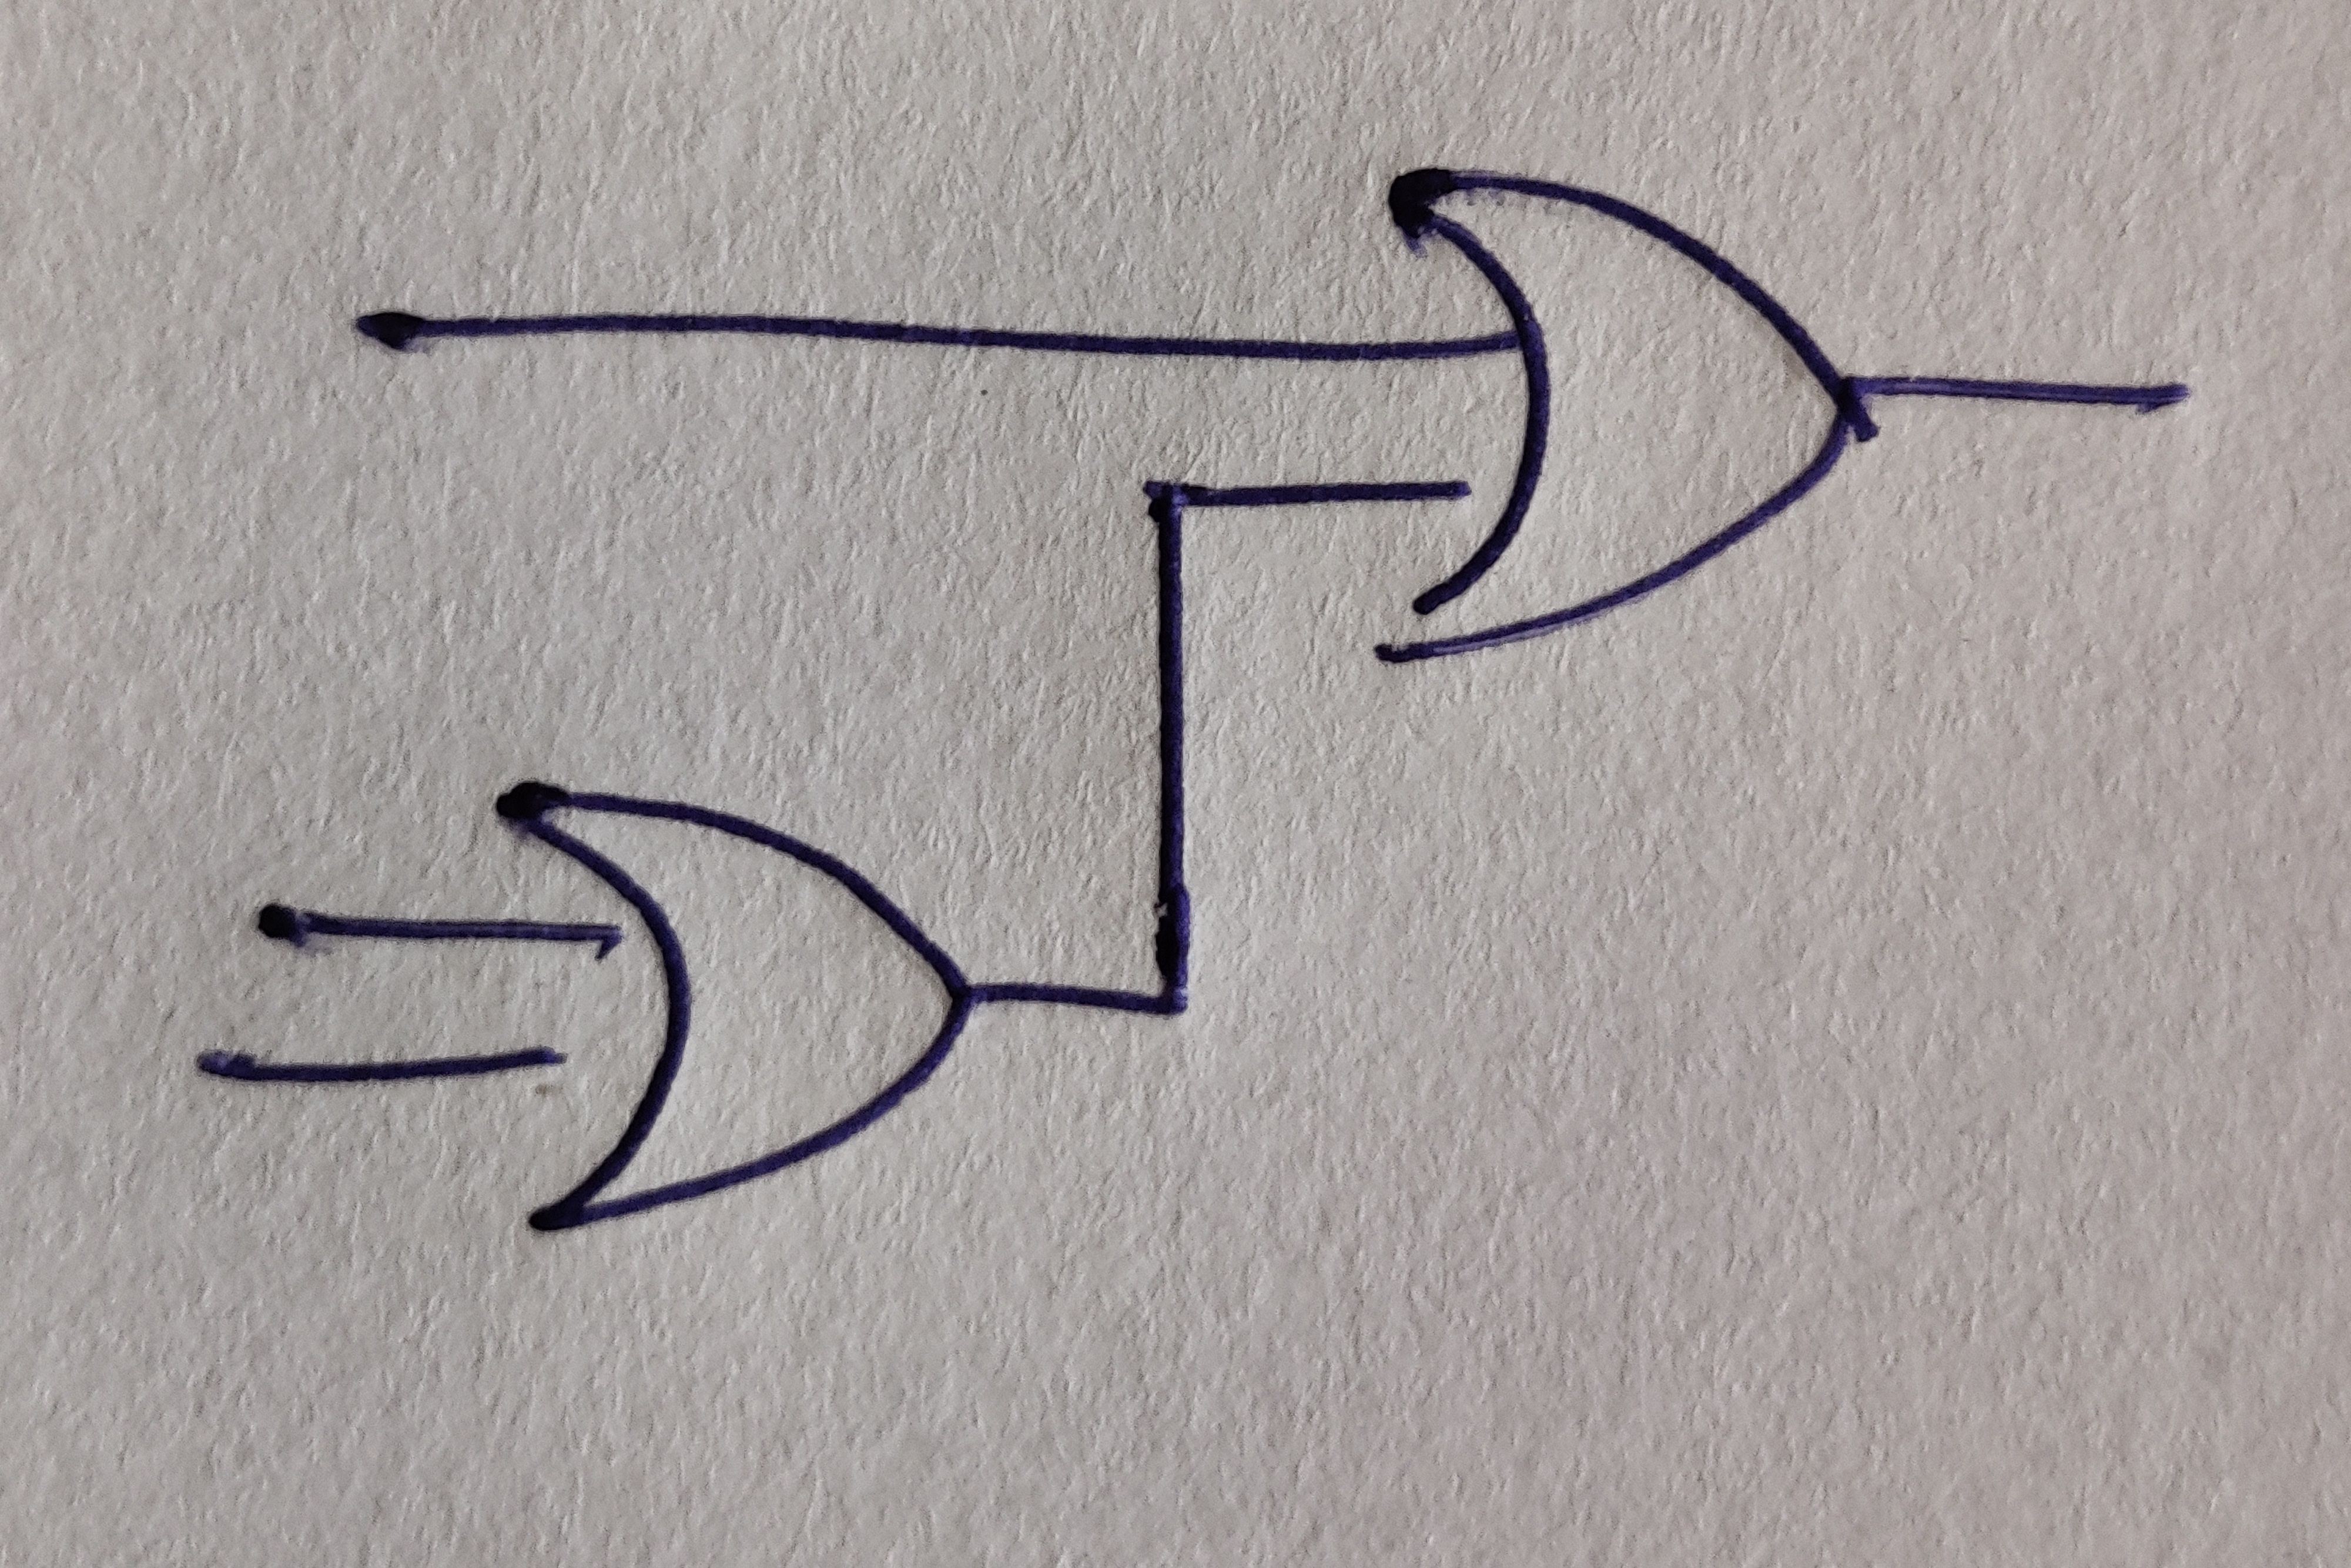or: (1371, 168, 1873, 667), (495, 782, 973, 1230)
